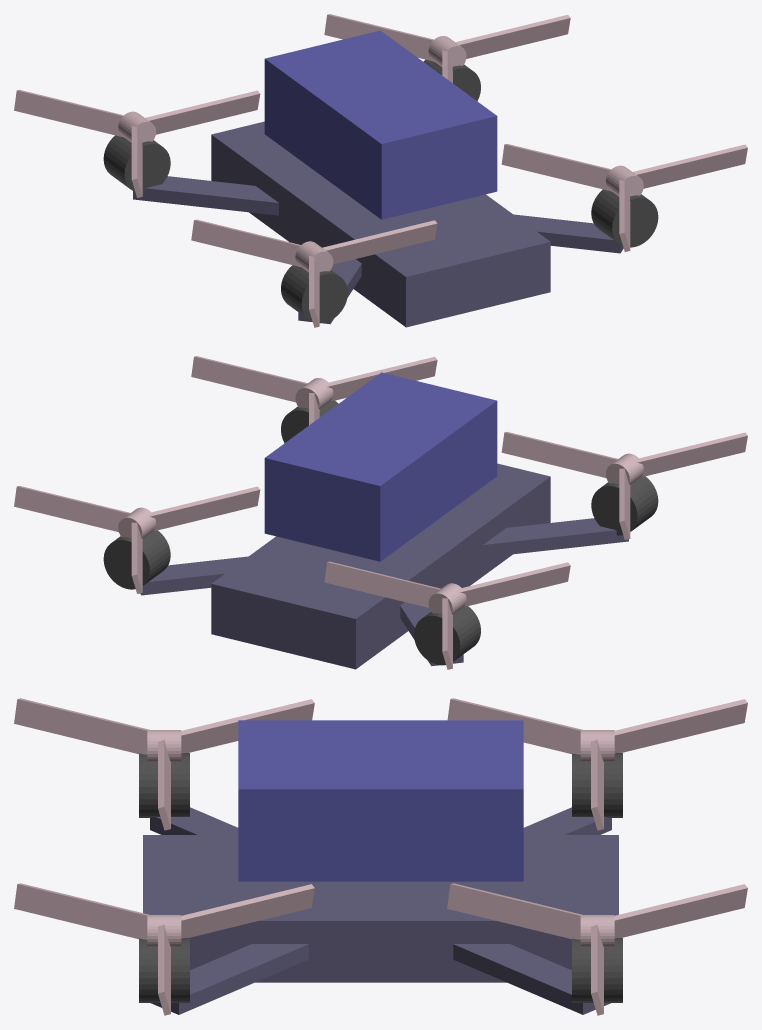
File: DGI.glb
3 renders of one model, top to bottom at view 1: azimuth 30°, elevation 25°; view 2: azimuth 150°, elevation 25°; view 3: azimuth 270°, elevation 25°, orthographic. The views are drawn at different scales.
Parts seen in each view (by area): view 1: battery, frame_body, prop_3, prop_0, prop_2, prop_1, arm_3, motor_2, motor_0, motor_3, arm_0, motor_1 (+1 smaller); view 2: battery, frame_body, prop_2, prop_1, prop_3, prop_0, arm_2, motor_1, motor_3, motor_2, arm_1, motor_0 (+1 smaller); view 3: battery, frame_body, prop_0, prop_1, prop_2, prop_3, arm_1, arm_0, motor_1, motor_0, motor_2, motor_3 (+2 smaller).
Part boxes in pixels (x1,y1,x2,y2): battery: (264, 30, 497, 219); frame_body: (211, 121, 550, 327); prop_3: (14, 89, 260, 197); prop_0: (501, 144, 747, 251); prop_2: (191, 219, 437, 327); prop_1: (324, 14, 570, 83); arm_3: (133, 176, 278, 215); motor_2: (281, 265, 347, 323); motor_0: (591, 189, 658, 247); motor_3: (103, 135, 170, 193); arm_0: (513, 214, 623, 253); motor_1: (423, 59, 480, 101); battery: (264, 372, 497, 561); frame_body: (211, 463, 550, 669); prop_2: (501, 432, 747, 539); prop_1: (14, 486, 260, 593); prop_3: (324, 561, 570, 669); prop_0: (191, 356, 437, 425); arm_2: (483, 518, 628, 557); motor_1: (103, 530, 170, 589); motor_3: (414, 606, 480, 665); motor_2: (591, 476, 658, 535); arm_1: (140, 556, 248, 595); motor_0: (281, 400, 338, 443); battery: (238, 720, 523, 881); frame_body: (143, 835, 618, 982); prop_0: (14, 883, 314, 1015); prop_1: (447, 883, 747, 1015); prop_2: (14, 698, 314, 830); prop_3: (447, 698, 747, 830); arm_1: (453, 944, 610, 1014); arm_0: (151, 944, 308, 1014); motor_1: (572, 938, 622, 1002); motor_0: (139, 938, 189, 1002); motor_2: (139, 753, 189, 817); motor_3: (572, 753, 622, 817).
Size of the model in its own units: 0.2055 by 0.06 by 0.2159.
